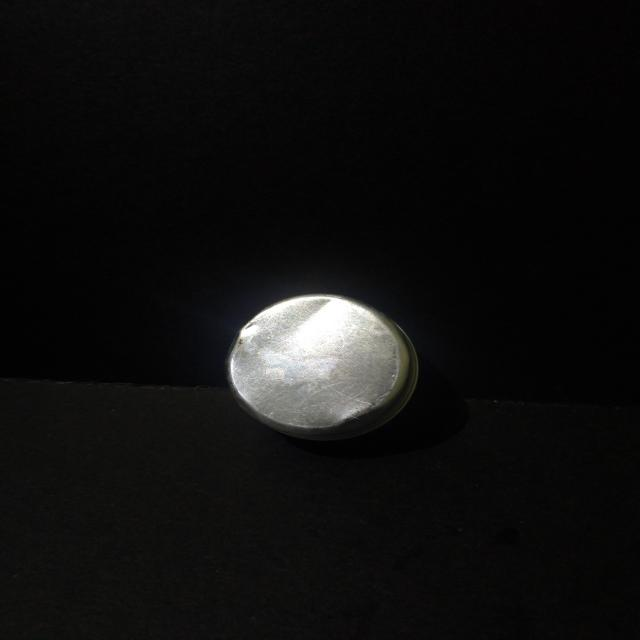metal-can: (220, 288, 422, 448)
